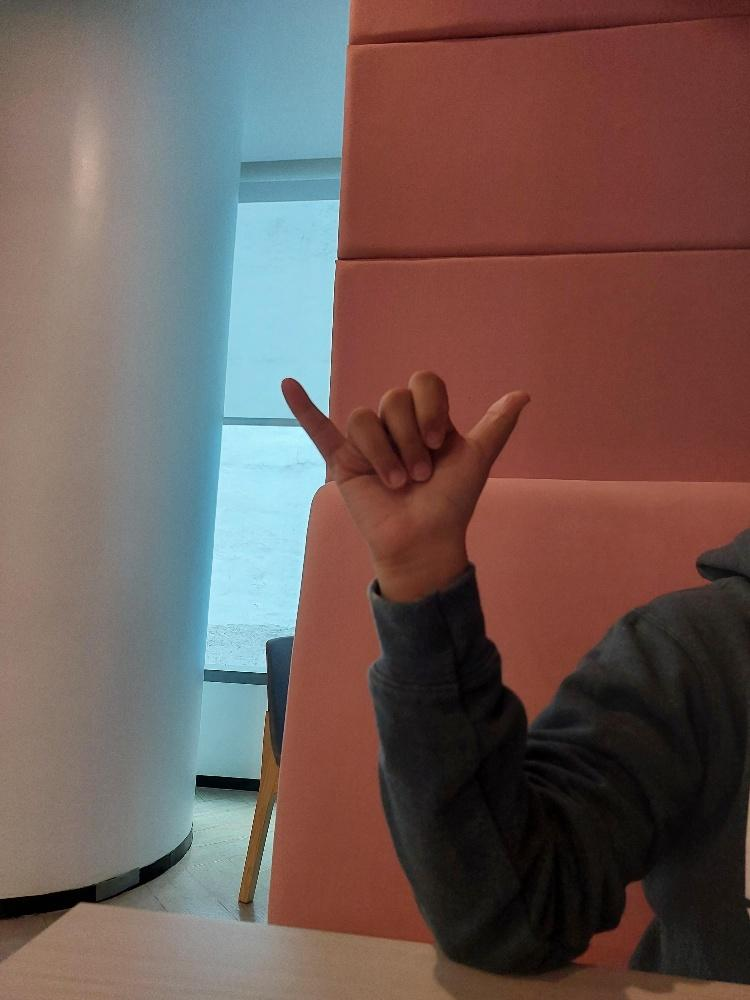y: (275, 360, 534, 580)
